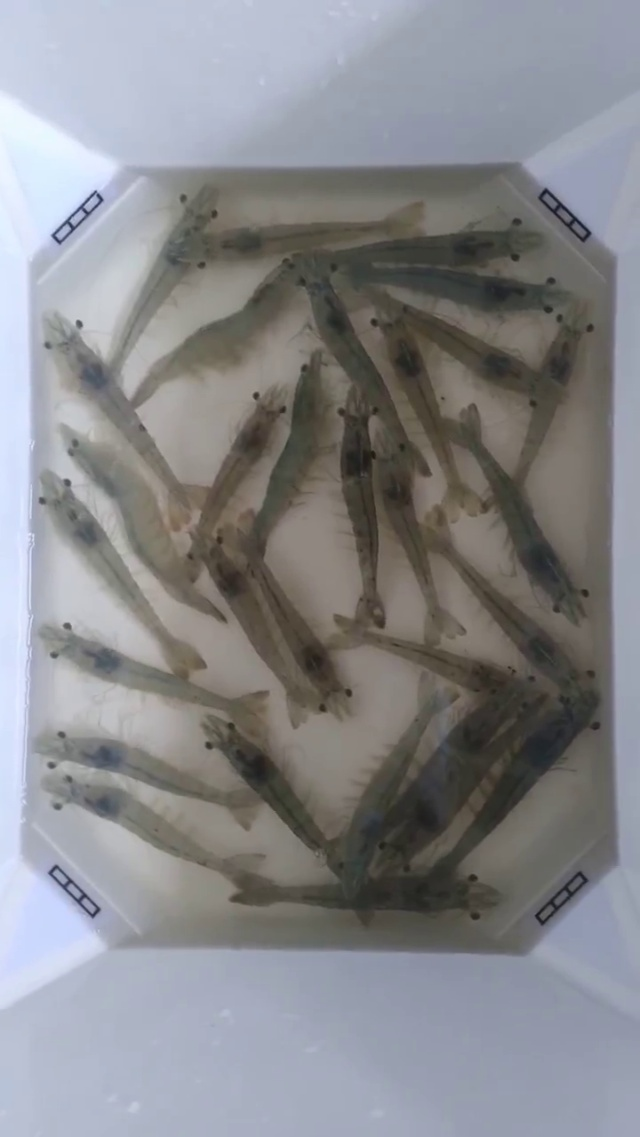shrimp: (544, 560, 639, 865), (561, 425, 639, 752), (558, 187, 639, 486), (68, 338, 186, 498), (18, 535, 120, 718), (328, 209, 442, 366), (29, 218, 118, 406), (0, 734, 98, 898), (39, 470, 145, 619), (513, 289, 590, 485), (312, 293, 393, 479), (455, 167, 559, 310), (184, 173, 284, 321), (427, 817, 532, 953), (191, 498, 273, 668), (166, 676, 268, 802), (133, 595, 229, 708), (390, 639, 512, 718), (422, 419, 492, 551), (220, 222, 338, 296), (0, 382, 33, 620), (217, 383, 290, 479), (322, 614, 389, 718)
